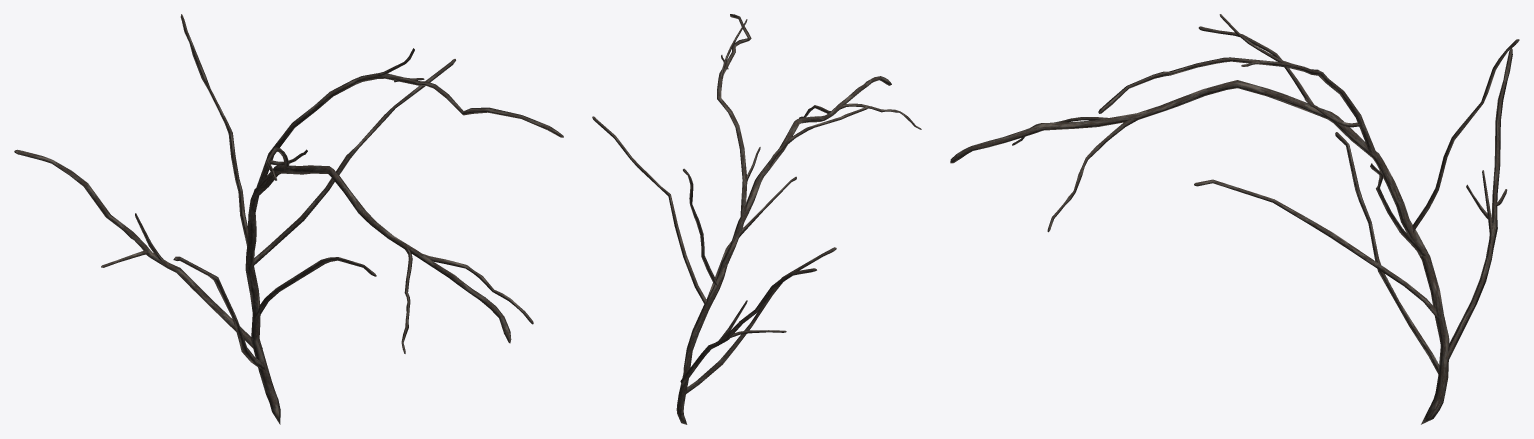
The model's file is Branch_deadwood5_LOD2.fbx.
3 views of the same model, side by side, from view 1: azimuth 30°, elevation 25°; view 2: azimuth 150°, elevation 25°; view 3: azimuth 270°, elevation 25° (orthographic). The views are drawn at different scales.
Visible parts, largest first — view 1: polySurface19; view 2: polySurface19; view 3: polySurface19.
Boxes of the visible parts, bbox=[...] form: polySurface19: bbox=[14, 14, 563, 424]; polySurface19: bbox=[592, 14, 921, 424]; polySurface19: bbox=[950, 14, 1519, 424].
Size of the model in its own units: 174 by 202 by 245.
